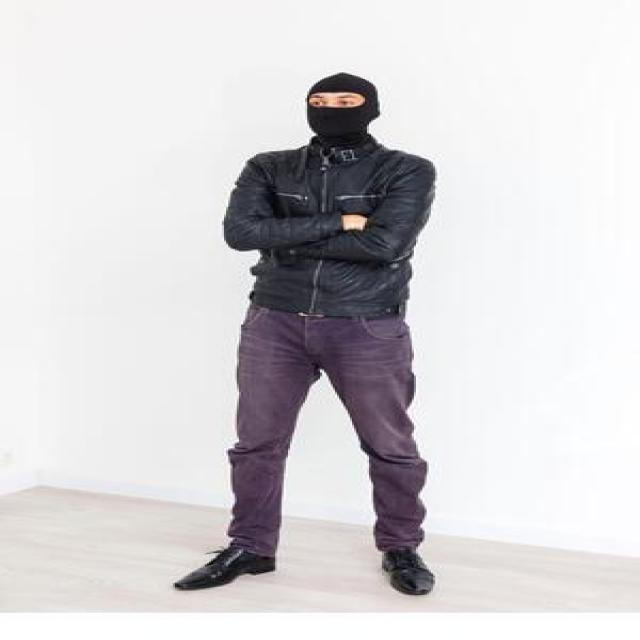6_pasamontana: (303, 71, 382, 146)
